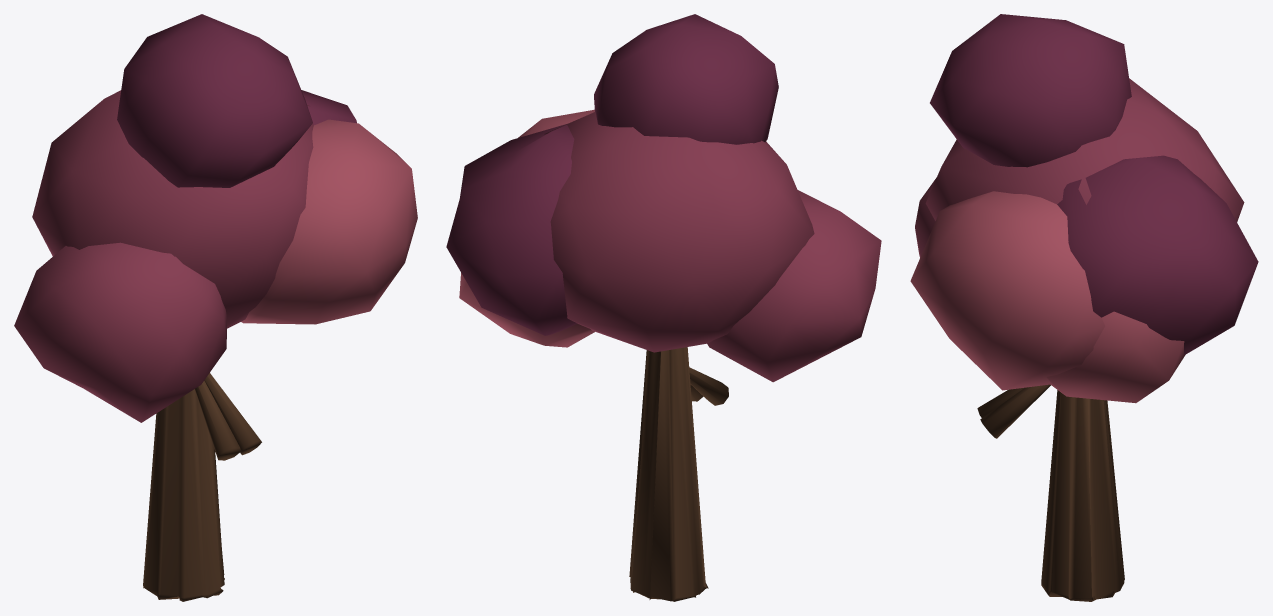
The model's file is tree_c.glb.
The picture shows the model from 3 angles, left to right: view 1: azimuth 30°, elevation 25°; view 2: azimuth 150°, elevation 25°; view 3: azimuth 270°, elevation 25°; orthographic projection. The views are drawn at different scales.
Parts seen in each view (by area): view 1: tree_c; view 2: tree_c; view 3: tree_c.
Part boxes in pixels (x1,y1,x2,y2): tree_c: (14,14,417,601); tree_c: (446,14,881,601); tree_c: (910,14,1258,601).
Bounding box in the file's own units: 3.78 × 5.38 × 2.96.
